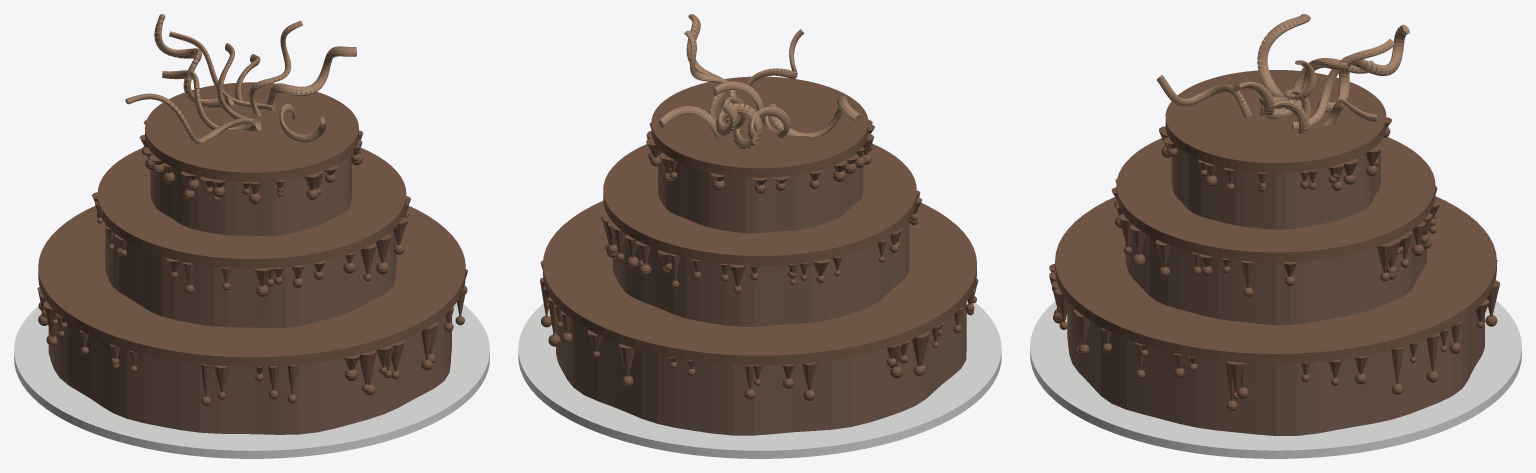
Rendered from cake.glb.
3 renders of one model, left to right at view 1: azimuth 30°, elevation 25°; view 2: azimuth 150°, elevation 25°; view 3: azimuth 270°, elevation 25°, orthographic. The views are drawn at different scales.
Parts seen in each view (by area): view 1: tier_1_ganache, tier_1_sponge, tier_2_ganache, cake_board, tier_3_ganache, tier_2_sponge, tier_3_sponge, chocolate_curls; view 2: tier_1_ganache, tier_1_sponge, tier_2_ganache, cake_board, tier_3_ganache, tier_2_sponge, tier_3_sponge, chocolate_curls; view 3: tier_1_ganache, tier_1_sponge, tier_2_ganache, cake_board, tier_3_ganache, tier_2_sponge, tier_3_sponge, chocolate_curls.
Boxes of the visible parts, box(x1,y1,x2,y2) form: tier_1_ganache: box(37, 206, 467, 406); tier_1_sponge: box(48, 315, 451, 434); tier_2_ganache: box(91, 148, 410, 297); cake_board: box(14, 302, 489, 458); tier_3_ganache: box(139, 82, 363, 204); tier_2_sponge: box(105, 224, 396, 327); tier_3_sponge: box(150, 153, 351, 236); chocolate_curls: box(125, 14, 356, 144); tier_1_ganache: box(540, 201, 978, 401); tier_1_sponge: box(556, 302, 966, 435); tier_2_ganache: box(600, 144, 921, 293); cake_board: box(518, 300, 1001, 458); tier_3_ganache: box(646, 76, 874, 193); tier_2_sponge: box(612, 220, 909, 326); tier_3_sponge: box(658, 150, 863, 233); chocolate_curls: box(658, 14, 860, 149); tier_1_ganache: box(1049, 196, 1499, 411); tier_1_sponge: box(1067, 304, 1484, 435); tier_2_ganache: box(1111, 137, 1440, 297); cake_board: box(1030, 300, 1521, 458); tier_3_ganache: box(1159, 70, 1391, 191); tier_2_sponge: box(1125, 230, 1426, 325); tier_3_sponge: box(1171, 141, 1380, 229); chocolate_curls: box(1156, 14, 1409, 133).
Size of the model in its own units: 0.446 by 0.3251 by 0.446.
